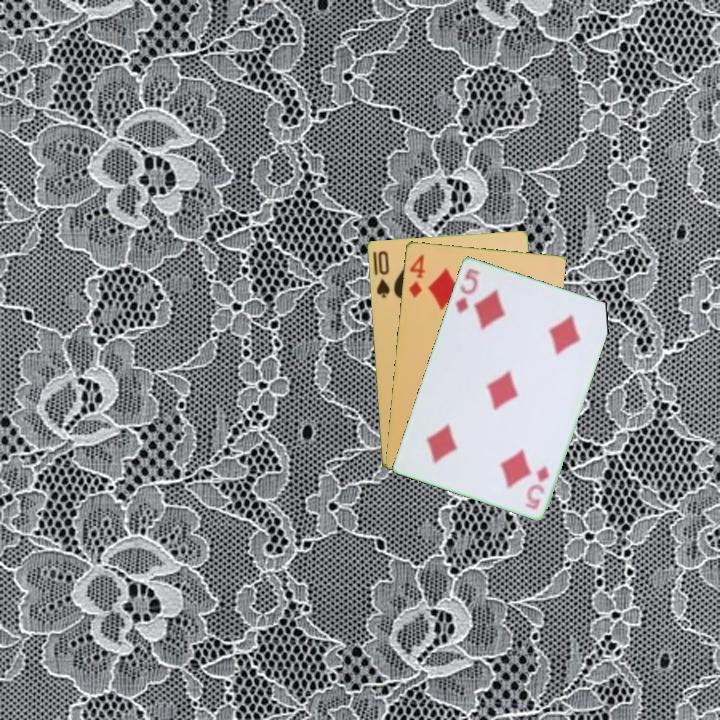10s: (372, 247, 392, 301)
4d: (405, 251, 428, 300)
5d: (452, 264, 483, 316), (522, 461, 552, 512)
